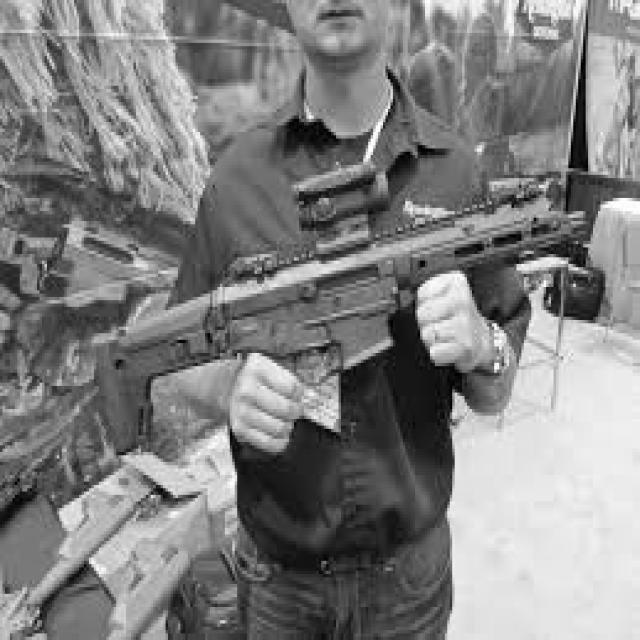rifle: (102, 170, 588, 448)
